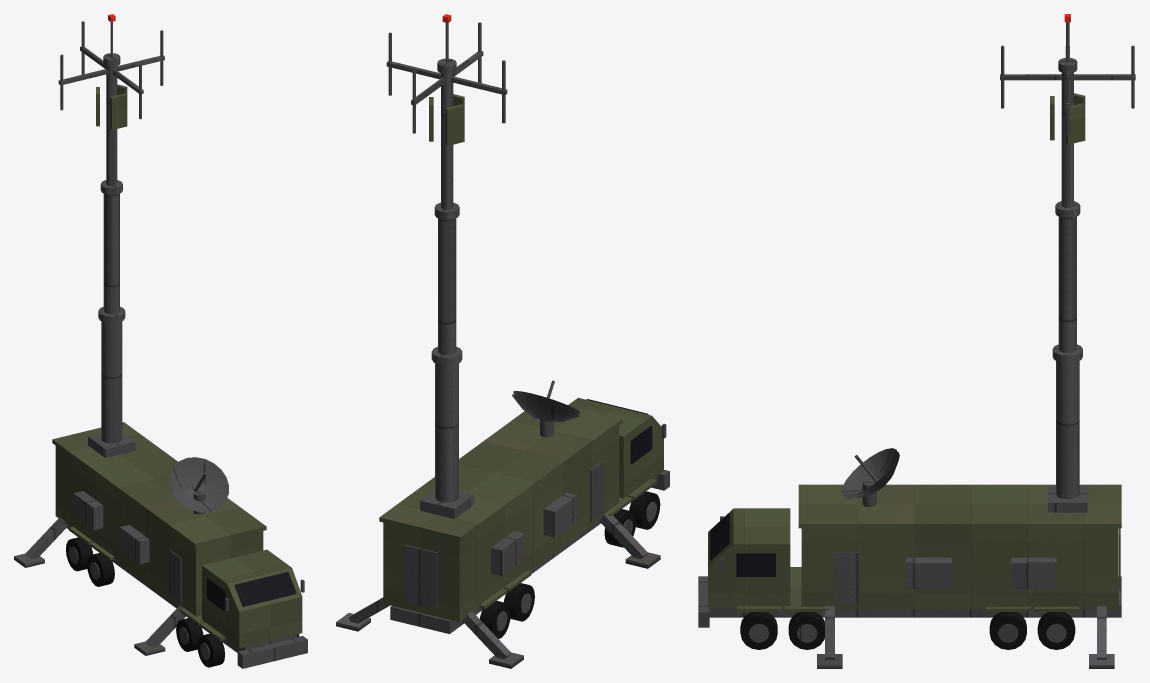
File: ACO_EcmTruck.fbx
3 views of the same model, side by side, from view 1: azimuth 30°, elevation 25°; view 2: azimuth 150°, elevation 25°; view 3: azimuth 270°, elevation 25° (orthographic). The views are drawn at different scales.
Parts seen in each view (by area): view 1: EcmTruck_Body; view 2: EcmTruck_Body; view 3: EcmTruck_Body.
Boxes of the visible parts, <box> form: EcmTruck_Body: <box>14,14,307,668</box>; EcmTruck_Body: <box>336,14,669,668</box>; EcmTruck_Body: <box>698,14,1135,668</box>.
Size of the model in its own units: 7.1 by 23.81 by 15.45.
5 materials, 5 textured.
